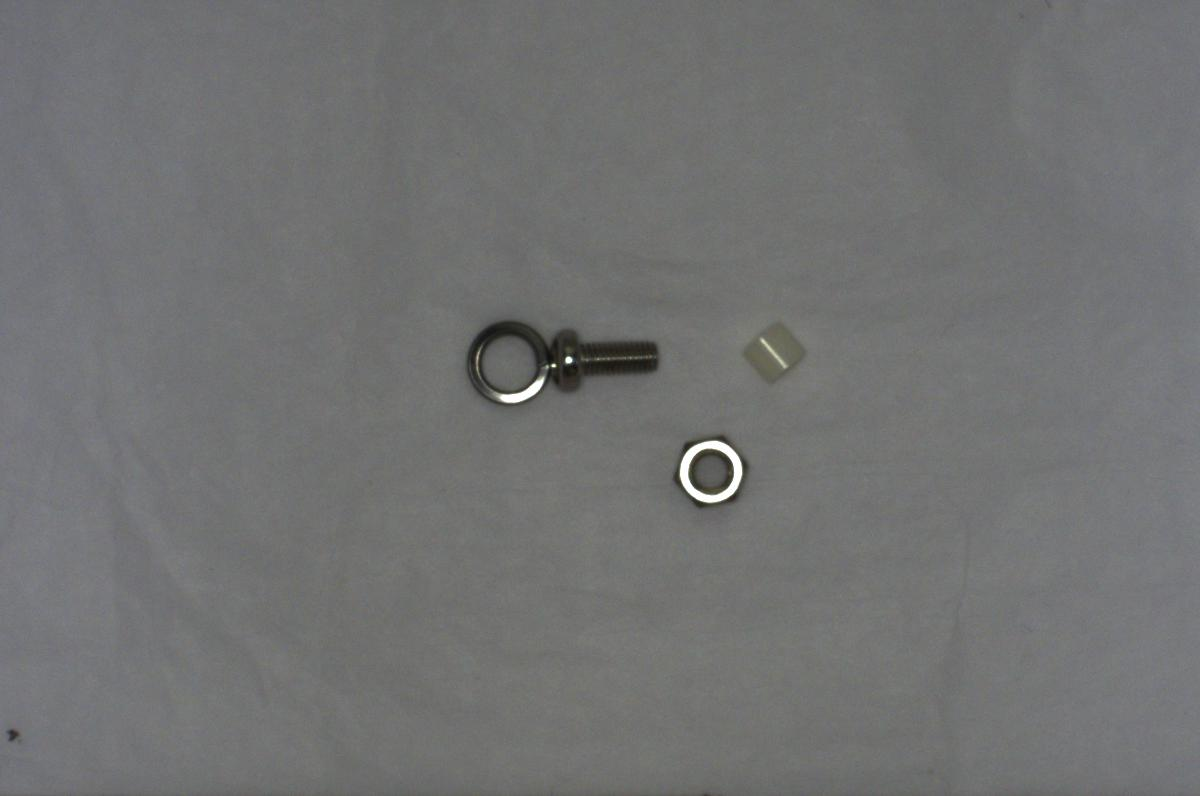Hexagon nut: (666, 426, 752, 512)
Plastic cushion pillar: (734, 318, 810, 387)
Round head screw: (542, 322, 672, 399)
Spring washer: (454, 310, 562, 412)
